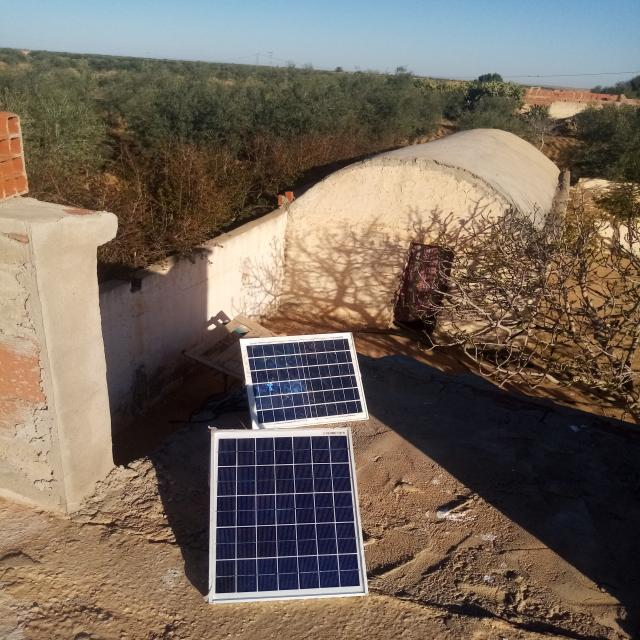Normal Solar Panel: (208, 428, 368, 604)
